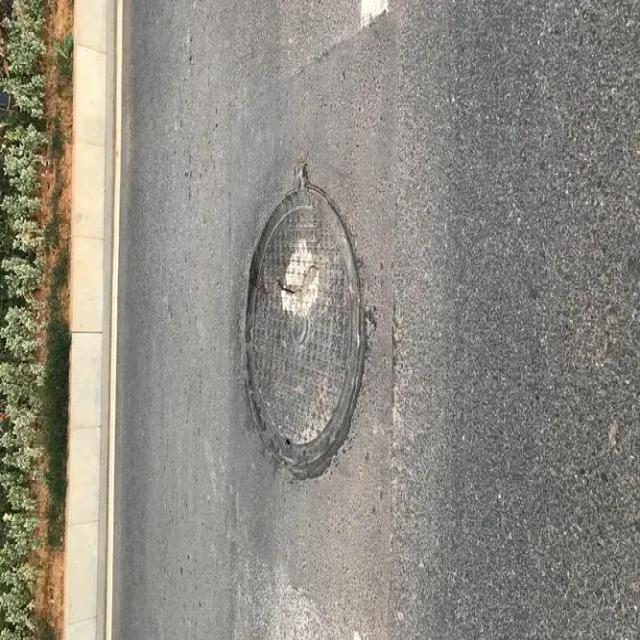manhole: (242, 163, 372, 486)
